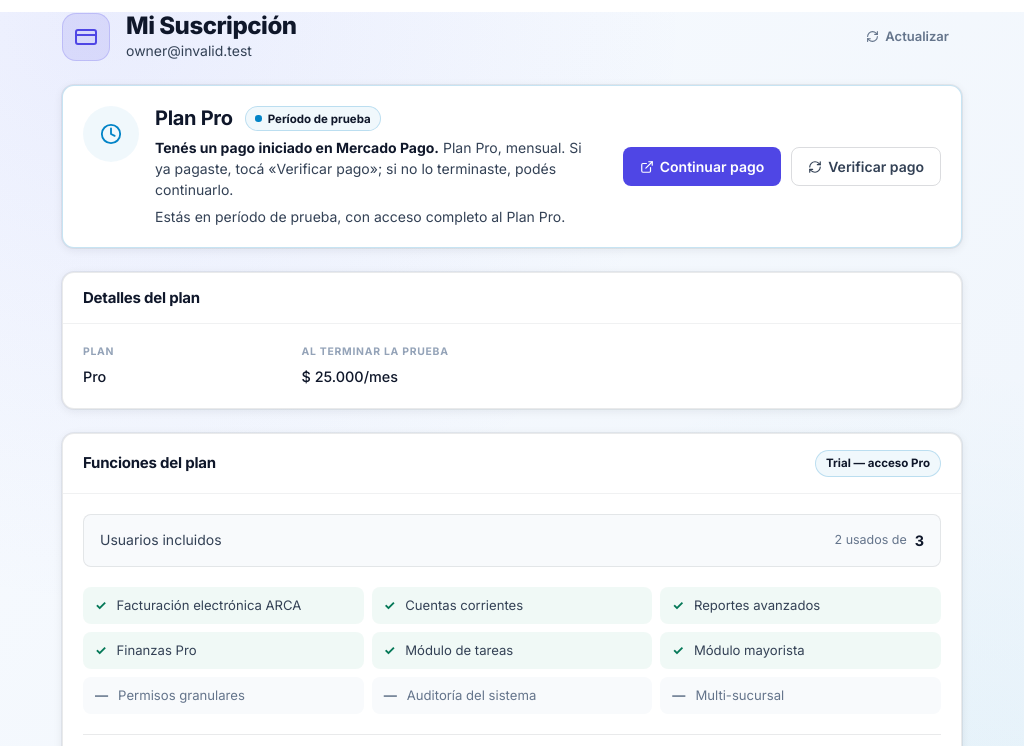
Test: «Continuar pago»: los caminos que no terminan en el checkout › Mercado Pago caído → error en pantalla, sin diálogo, y el botón vuelve a quedar disponible
The width and height of the screenshot is (1024, 746).
Click the button "Continuar pago" at (702, 167), box [623, 147, 781, 186]
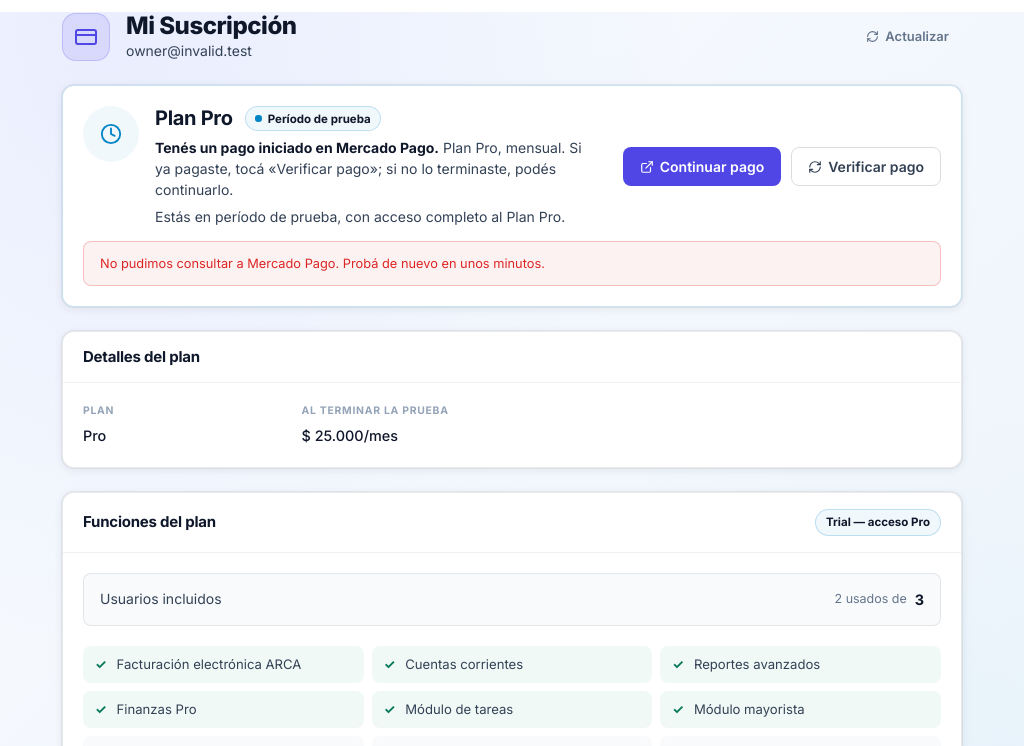
Now the message with test id "subscription-manage-error" shows "No pudimos consultar a Mercado Pago.", box [100, 256, 545, 271]
